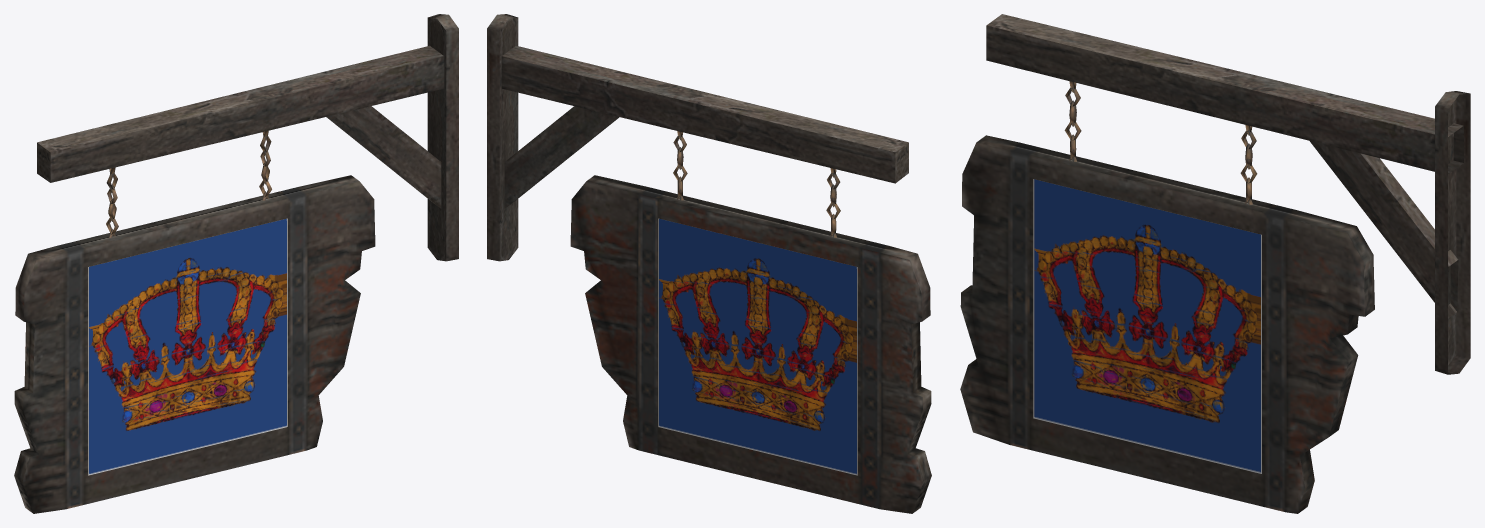
Rendered from Tavern_shield1_LOD2.fbx.
3 views of the same model, side by side, from view 1: azimuth 30°, elevation 25°; view 2: azimuth 150°, elevation 25°; view 3: azimuth 330°, elevation 25° (orthographic). The views are drawn at different scales.
Parts seen in each view (by area): view 1: polySurface204; view 2: polySurface204; view 3: polySurface204.
Boxes of the visible parts, x1,y1,x2,y2 form: polySurface204: (14, 14, 458, 513); polySurface204: (487, 14, 931, 513); polySurface204: (960, 14, 1470, 513).
Bounding box in the file's own units: 2.16 × 1.9 × 0.172.
